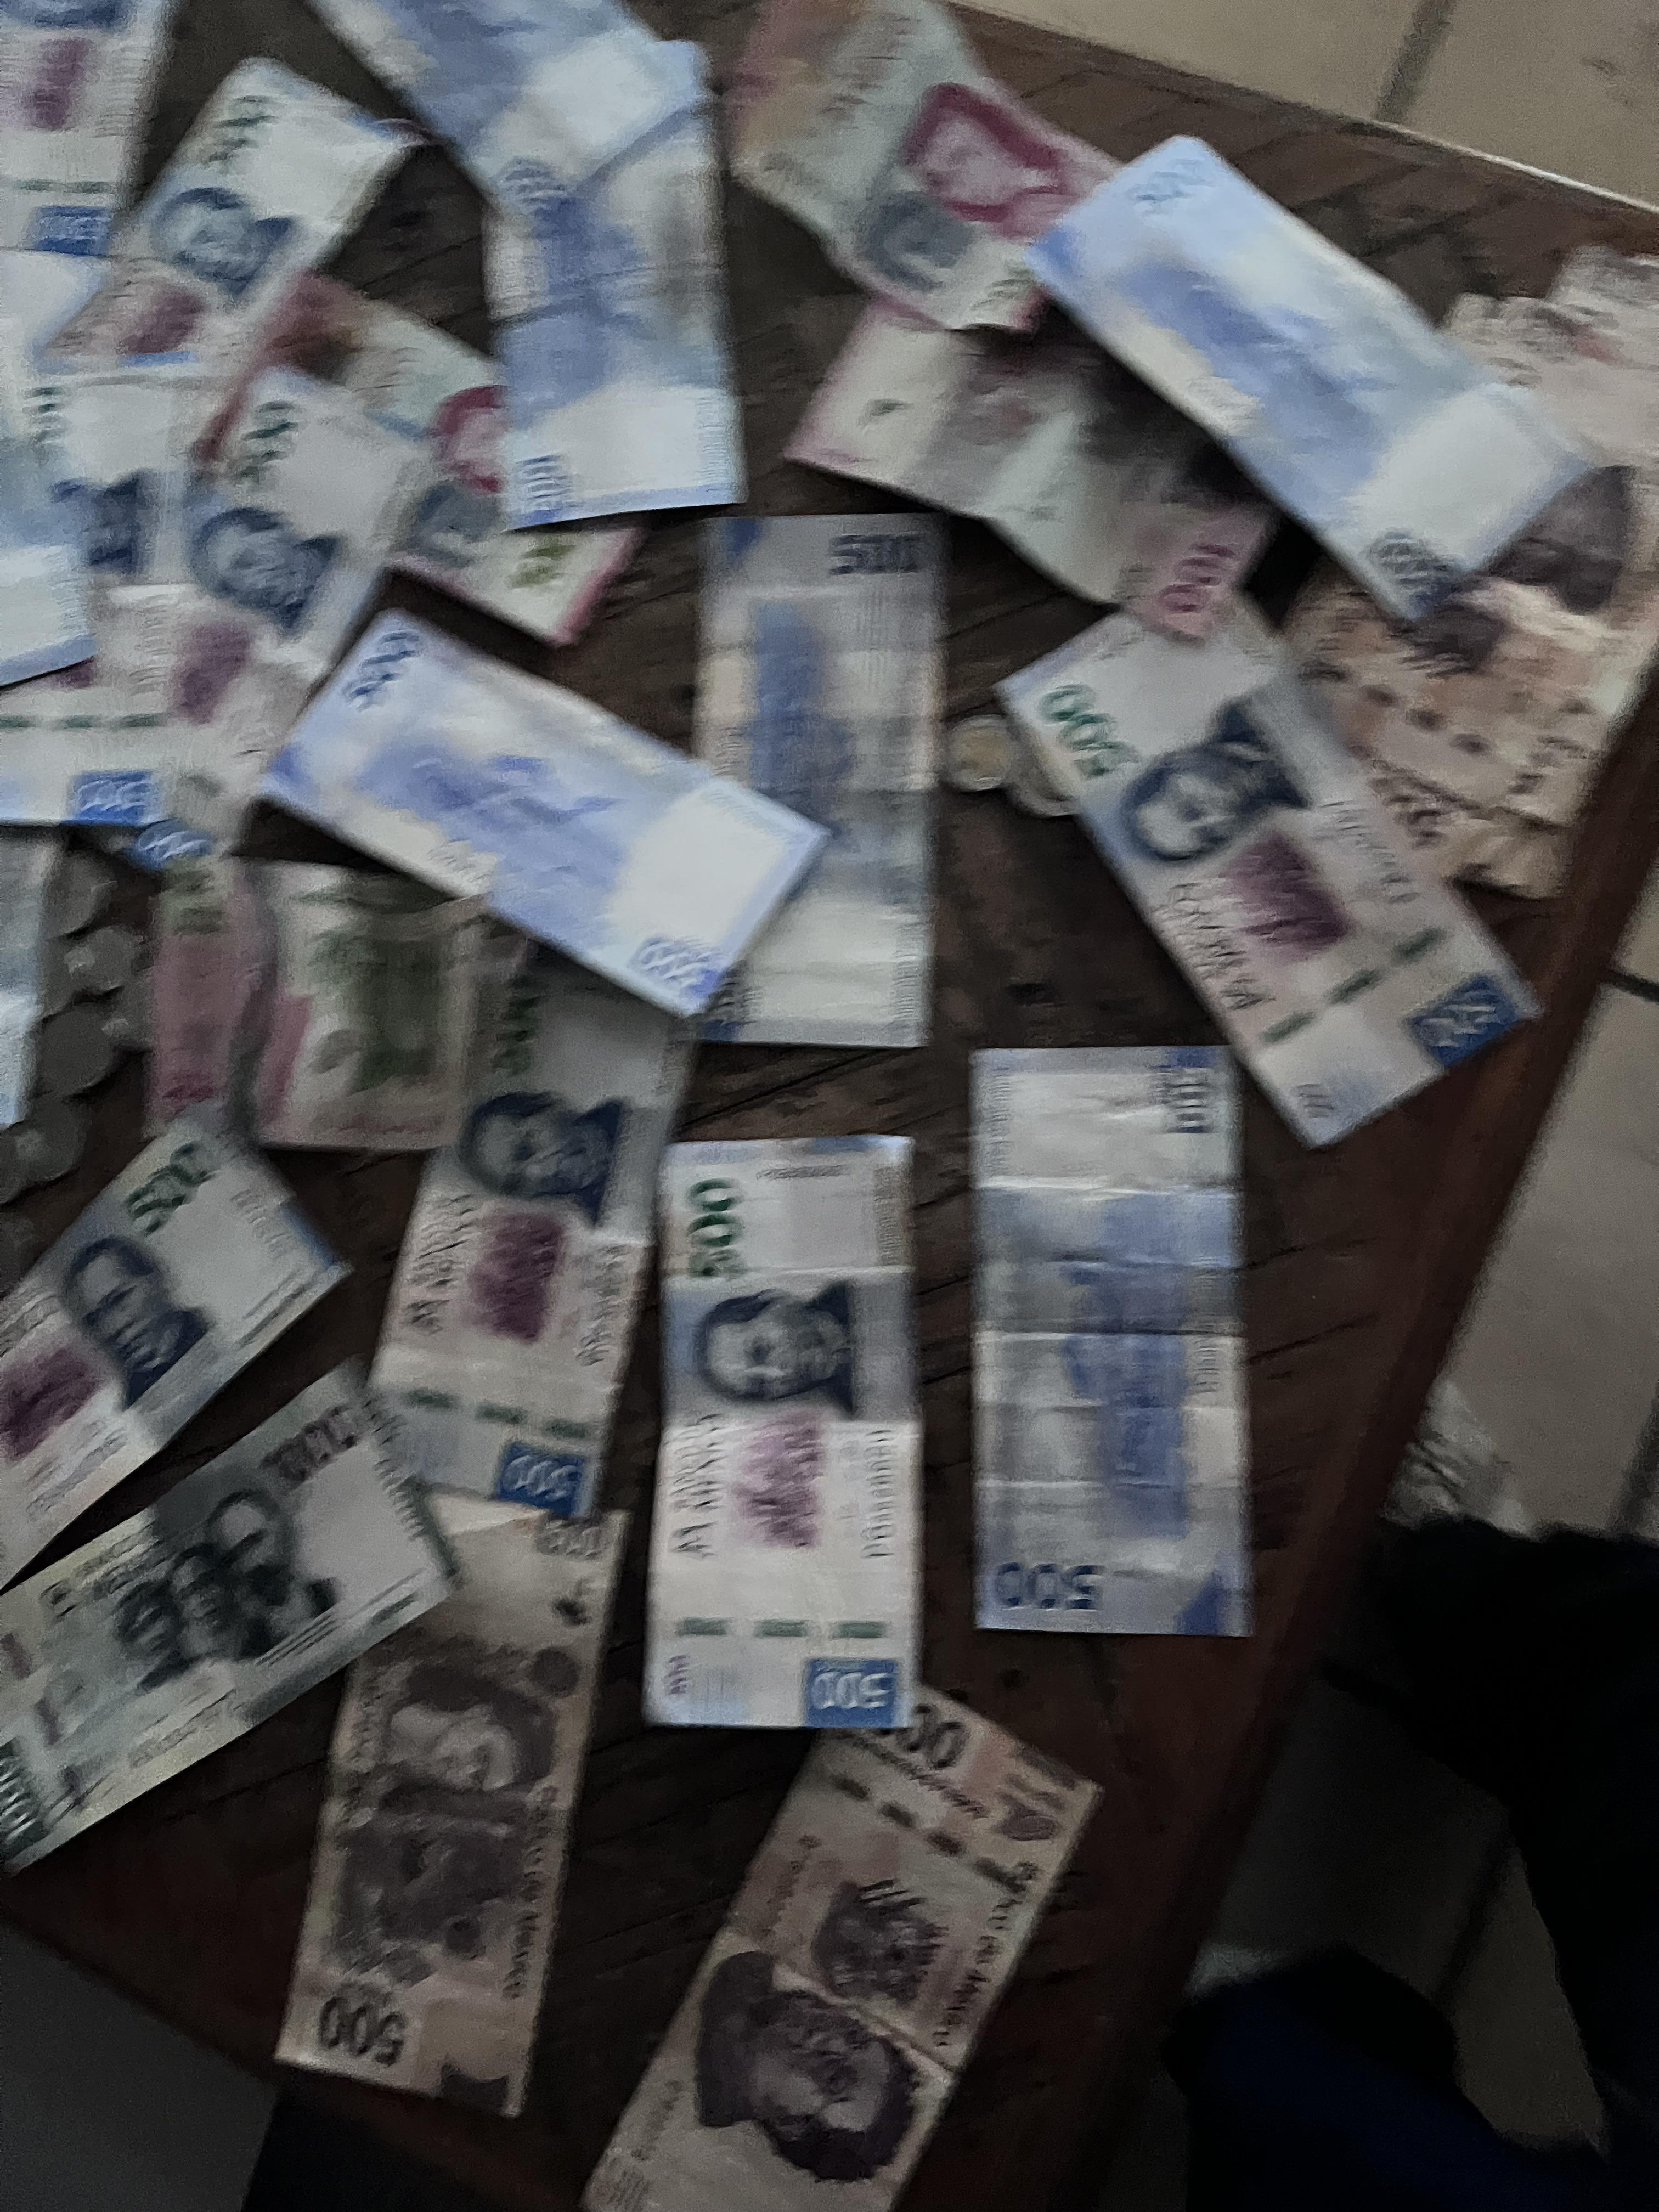100: (798, 277, 1331, 679), (718, 0, 1213, 305)
1000: (3, 1392, 427, 1885)
500: (568, 1686, 1112, 2212), (253, 1500, 624, 2094), (1305, 282, 1659, 829)
500 nuevo: (1018, 66, 1654, 650), (988, 582, 1554, 1116), (938, 1029, 1290, 1676), (274, 596, 821, 1007), (47, 373, 434, 930), (622, 1134, 943, 1771), (0, 1082, 389, 1606), (680, 481, 967, 1087), (448, 52, 795, 549), (362, 920, 617, 1541), (66, 42, 389, 470)
